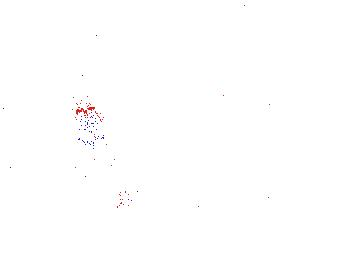flame jellyfish: (69, 106, 127, 216), (30, 143, 91, 211)
